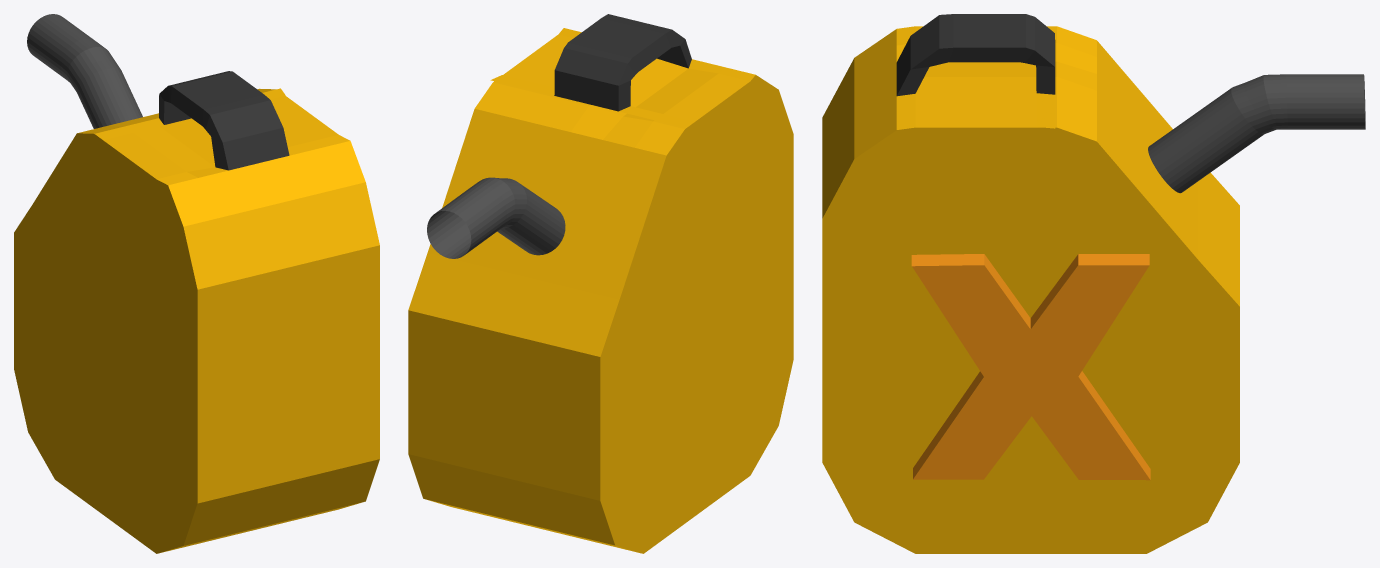
The model's file is FuelTankPoljeGold.fbx.
3 views of the same model, side by side, from view 1: azimuth 30°, elevation 25°; view 2: azimuth 150°, elevation 25°; view 3: azimuth 270°, elevation 25° (orthographic). The views are drawn at different scales.
Parts seen in each view (by area): view 1: FuelTank; view 2: FuelTank; view 3: FuelTank.
Boxes of the visible parts, <box> form: FuelTank: <box>14,14,379,553</box>; FuelTank: <box>408,14,793,553</box>; FuelTank: <box>822,14,1365,553</box>.
Bounding box in the file's own units: 56.34 × 111 × 115.
